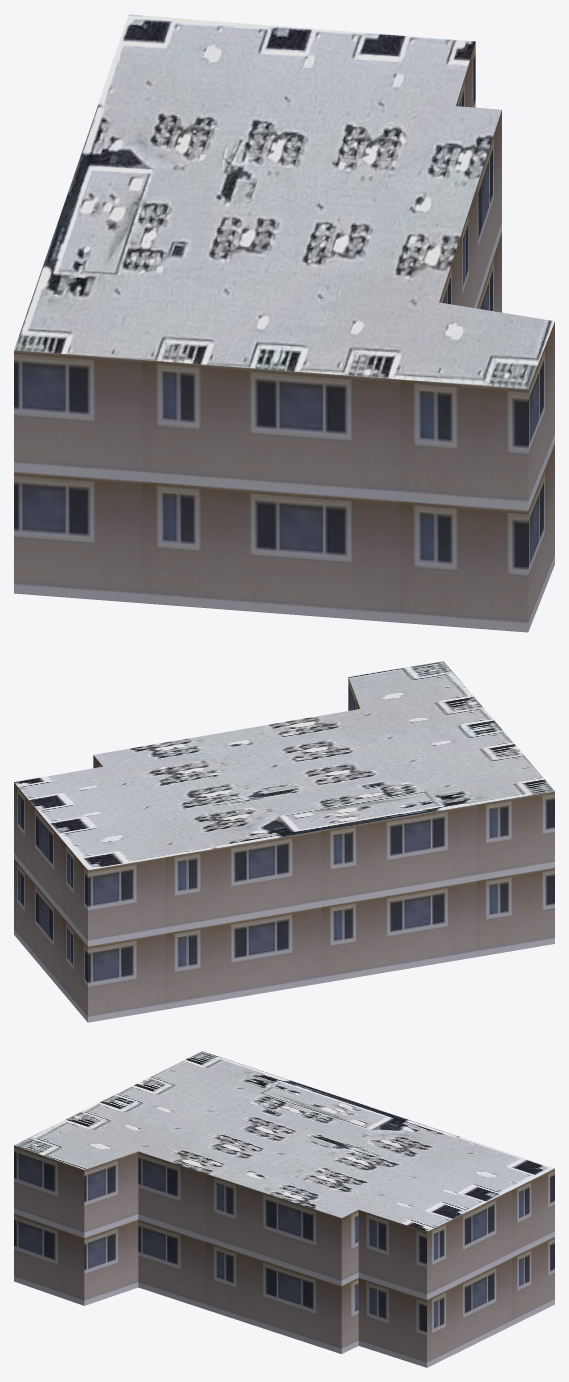
The model's file is ResTex__2200.fbx.
The picture shows the model from 3 angles, top to bottom: view 1: azimuth 30°, elevation 25°; view 2: azimuth 150°, elevation 25°; view 3: azimuth 270°, elevation 25°; orthographic projection. The views are drawn at different scales.
Parts seen in each view (by area): view 1: CityEngineMaterial_4_m, CityEngineMaterial_21_m; view 2: CityEngineMaterial_21_m, CityEngineMaterial_4_m; view 3: CityEngineMaterial_21_m, CityEngineMaterial_4_m.
Part boxes in pixels (box(x1,y1,x2,y2)): CityEngineMaterial_4_m: box(14, 14, 554, 388); CityEngineMaterial_21_m: box(14, 42, 554, 632); CityEngineMaterial_21_m: box(14, 677, 554, 1022); CityEngineMaterial_4_m: box(14, 661, 554, 869); CityEngineMaterial_21_m: box(14, 1145, 554, 1367); CityEngineMaterial_4_m: box(14, 1051, 554, 1231).
Bounding box in the file's own units: 17.1 × 6 × 21.62.
2 materials, 2 textured.
